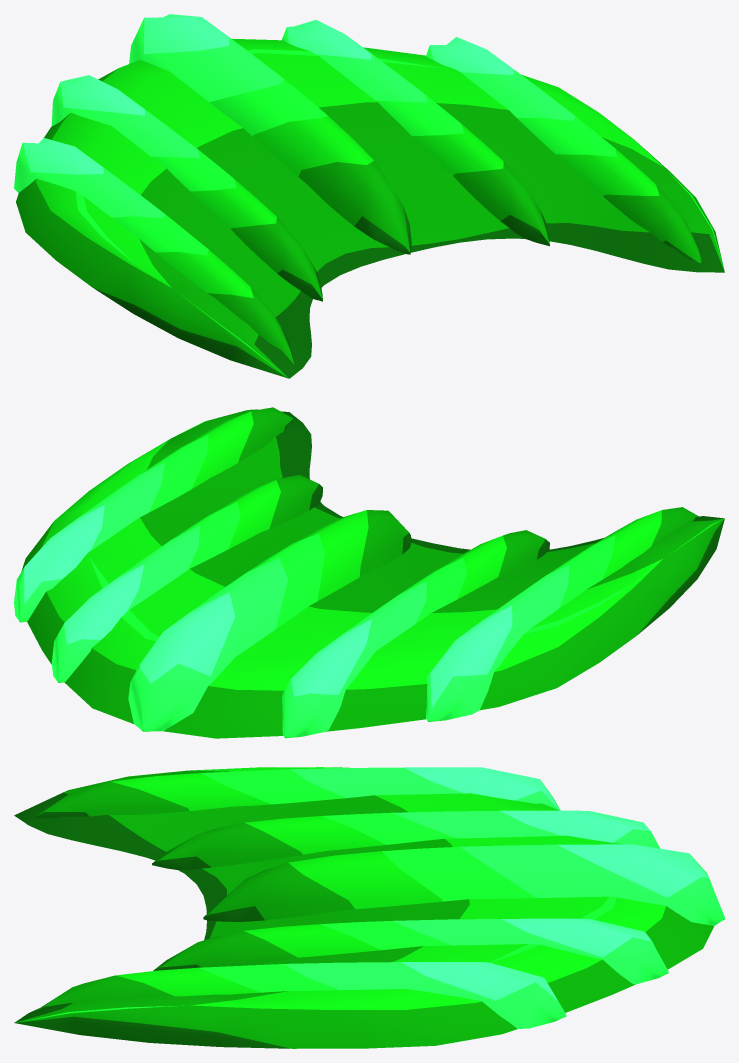
File: shot_sonic_123.glb
3 views of the same model, one above another, from view 1: azimuth 30°, elevation 25°; view 2: azimuth 150°, elevation 25°; view 3: azimuth 270°, elevation 25° (orthographic). The views are drawn at different scales.
Visible parts, largest first — view 1: shot_sonic_123_dome, shot_sonic_123_rib2, shot_sonic_123_rib3, shot_sonic_123_rib4, shot_sonic_123_rib1, shot_sonic_123_rib0; view 2: shot_sonic_123_dome, shot_sonic_123_rib2, shot_sonic_123_rib1, shot_sonic_123_rib0, shot_sonic_123_rib4, shot_sonic_123_rib3; view 3: shot_sonic_123_dome, shot_sonic_123_rib2, shot_sonic_123_rib3, shot_sonic_123_rib0, shot_sonic_123_rib1, shot_sonic_123_rib4.
Boxes of the visible parts, box(x1,y1,x2,y2) form: shot_sonic_123_dome: box(16, 39, 724, 378); shot_sonic_123_rib2: box(129, 14, 411, 254); shot_sonic_123_rib3: box(282, 20, 549, 246); shot_sonic_123_rib4: box(426, 37, 701, 263); shot_sonic_123_rib1: box(51, 75, 322, 301); shot_sonic_123_rib0: box(14, 138, 293, 363); shot_sonic_123_dome: box(21, 409, 724, 738); shot_sonic_123_rib2: box(128, 510, 411, 731); shot_sonic_123_rib1: box(282, 530, 549, 738); shot_sonic_123_rib0: box(426, 507, 698, 721); shot_sonic_123_rib4: box(14, 407, 293, 622); shot_sonic_123_rib3: box(51, 474, 322, 682); shot_sonic_123_dome: box(14, 767, 714, 1048); shot_sonic_123_rib2: box(203, 844, 724, 925); shot_sonic_123_rib3: box(153, 918, 668, 984); shot_sonic_123_rib0: box(32, 767, 560, 818); shot_sonic_123_rib1: box(152, 810, 660, 869); shot_sonic_123_rib4: box(35, 962, 566, 1028).
Size of the model in its own units: 11.99 by 1.61 by 13.9.
